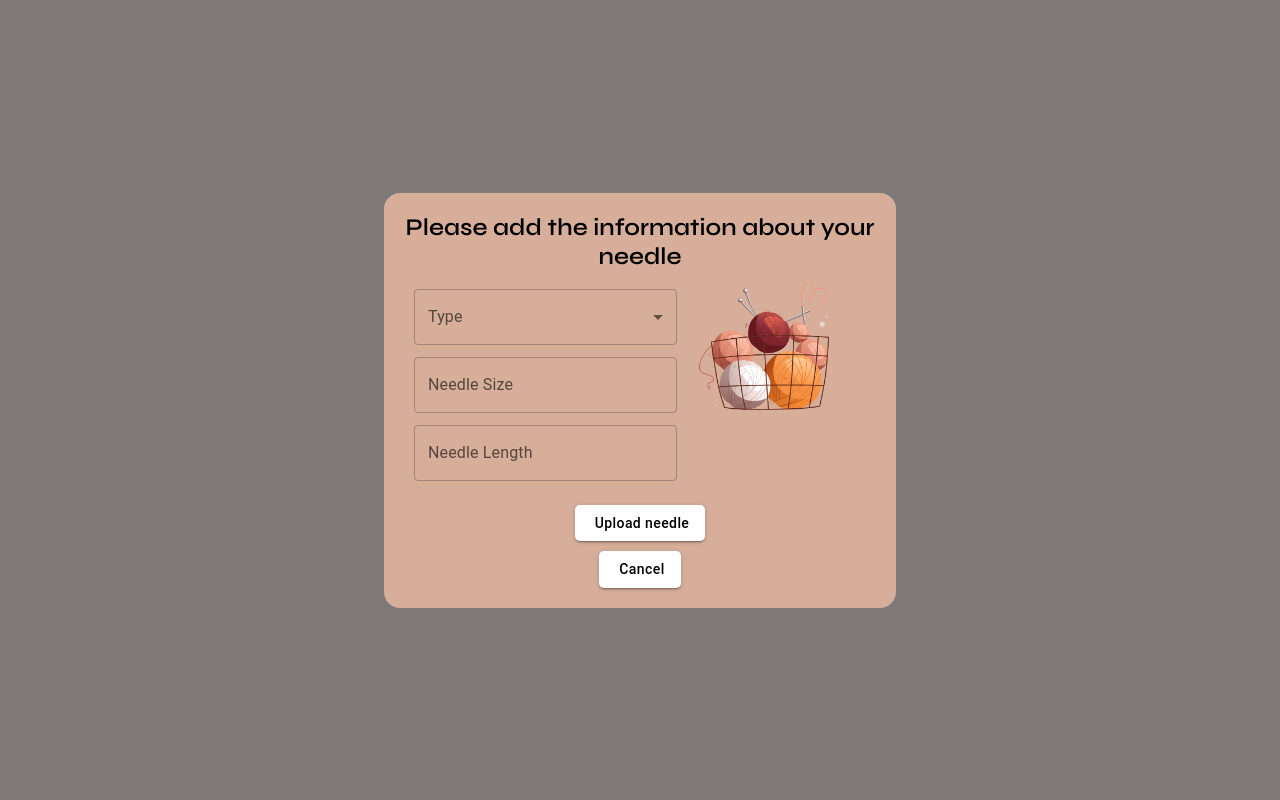
NeedleInfo Component › validates required fields before submitting
Click the button "Upload needle".
click(640, 523)  # box top-left (575, 504), bottom-right (705, 541)
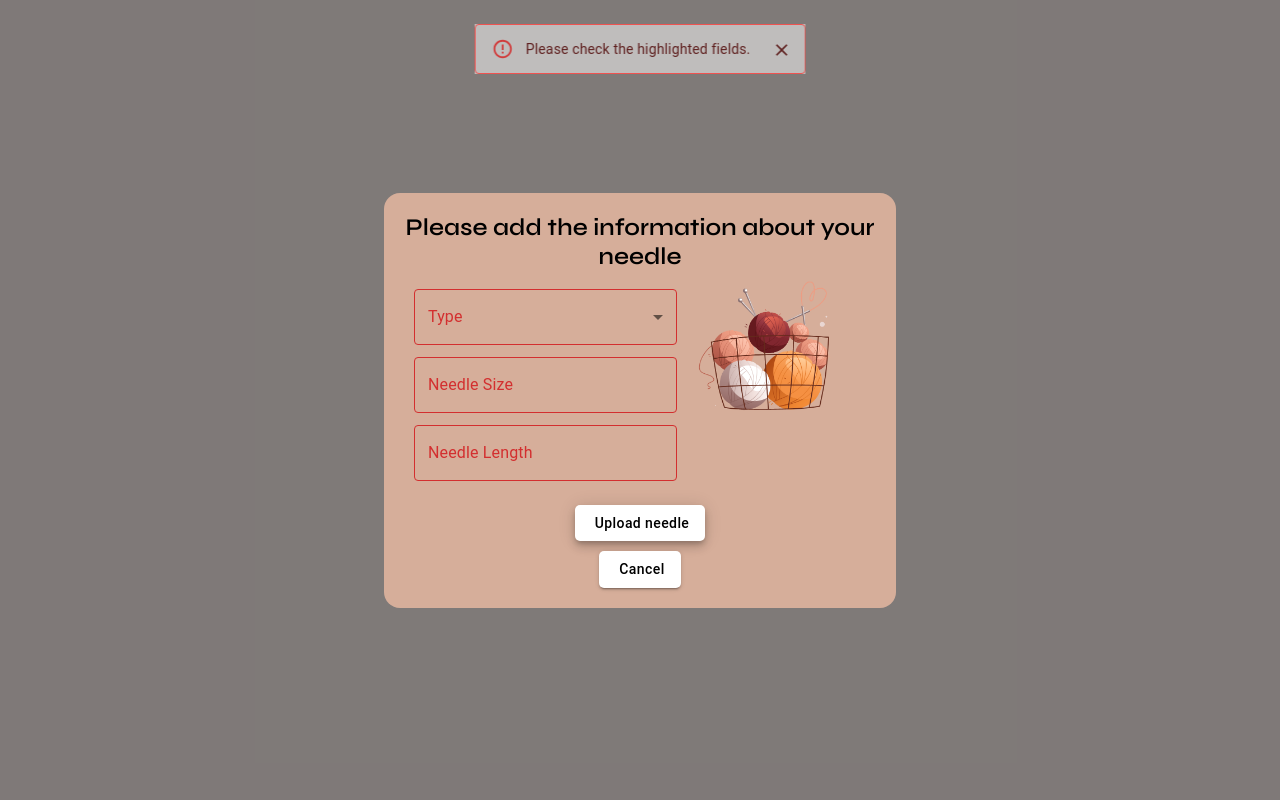
Check: the text "Please check the highlighted fields." is shown, box top-left (526, 41), bottom-right (750, 57)
